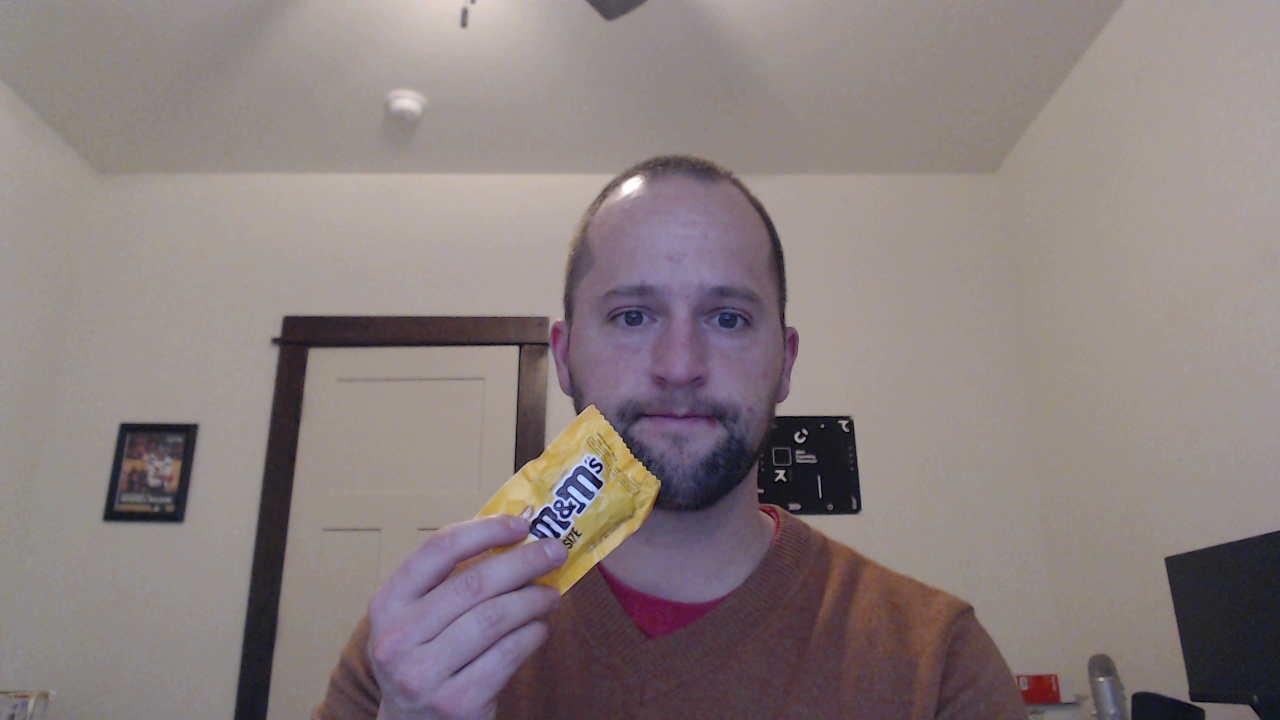MMs_regular: (456, 393, 681, 603)
